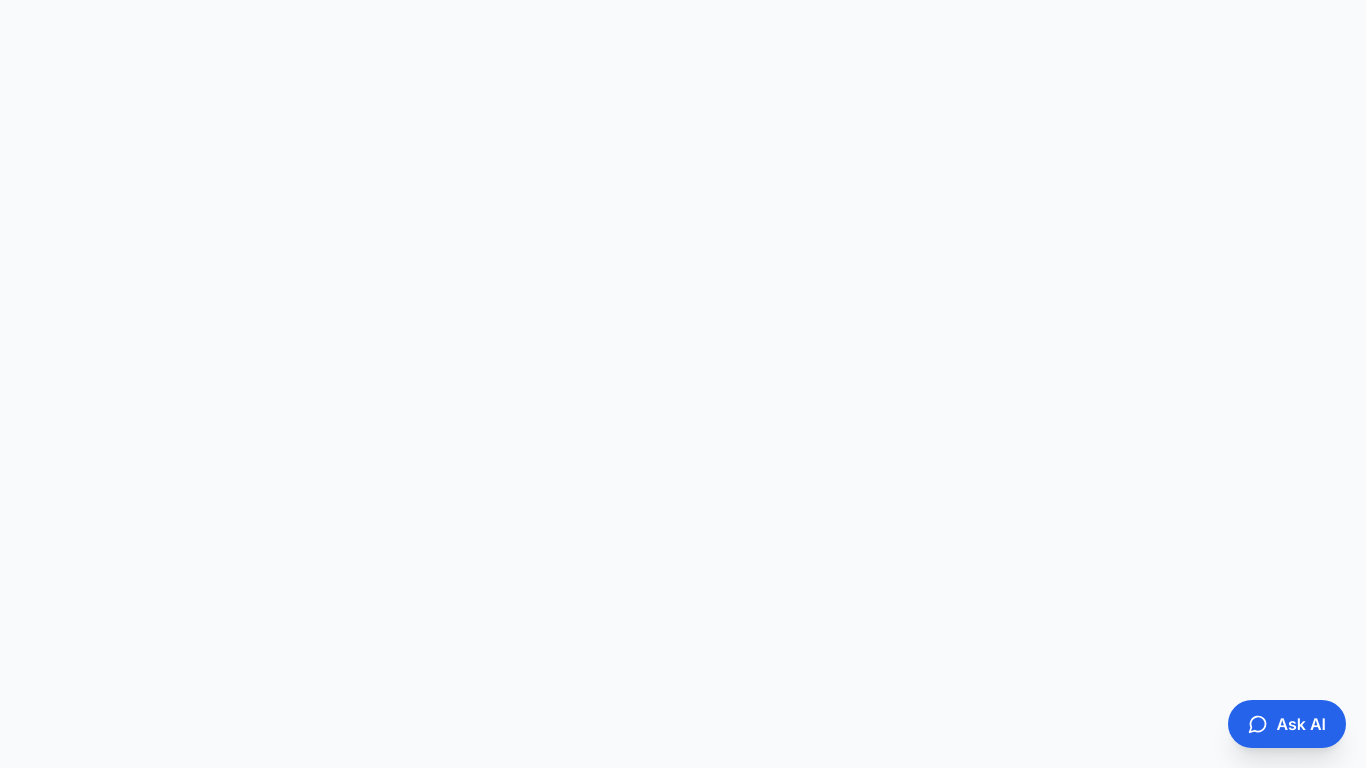
Scenario: sends a suggested question, keeps the session id and shows a safe reply with a link card
This screenshot has width=1366, height=768.
Later steps or results of the test are not shown.
Click the button with aria-label "open chat" at (1287, 724), box [1228,700,1346,748]
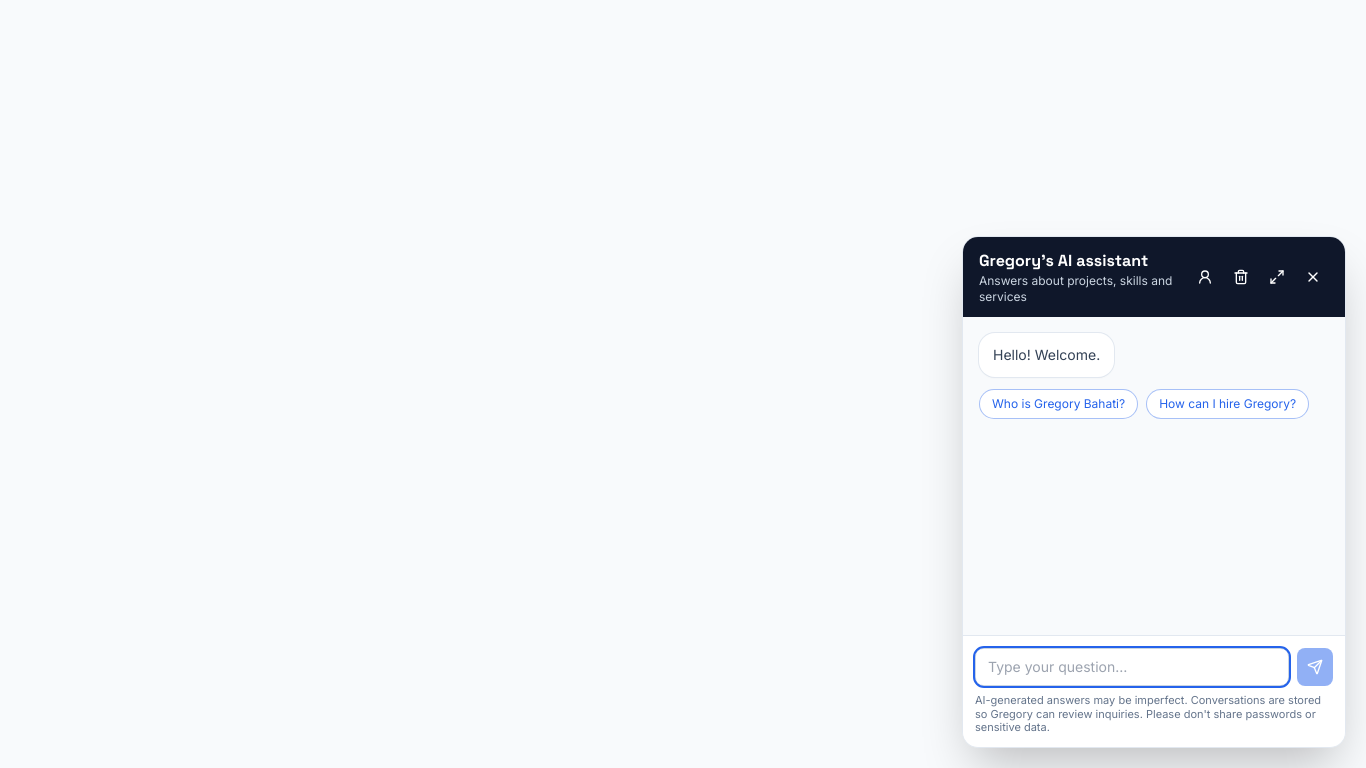
Click the button "Who is Gregory Bahati?" at (1059, 404), box [979,389,1138,419]
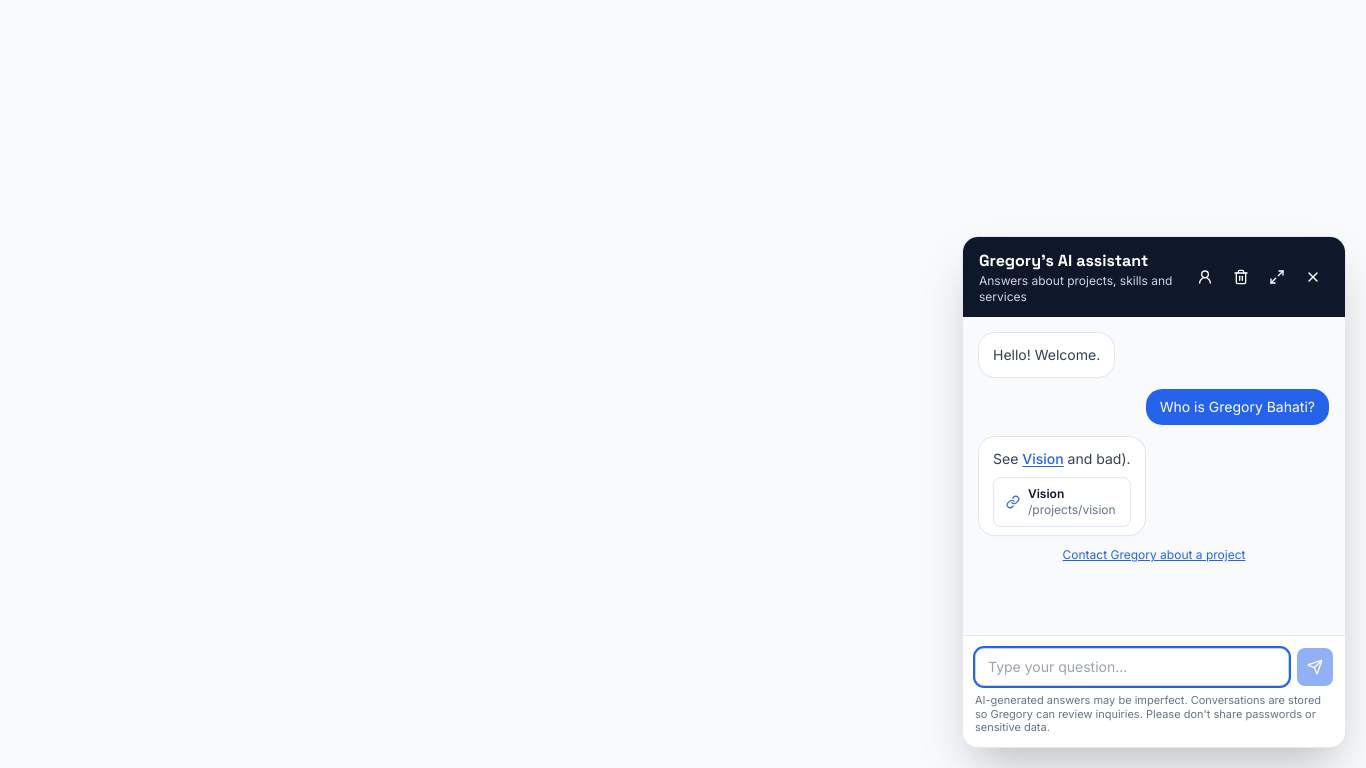
Expected: the link "Vision" is shown, [1022,450,1064,467]
Expected: the button "How can I hire Gregory?" is gone
